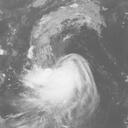cyclone: (36, 55, 89, 111)
